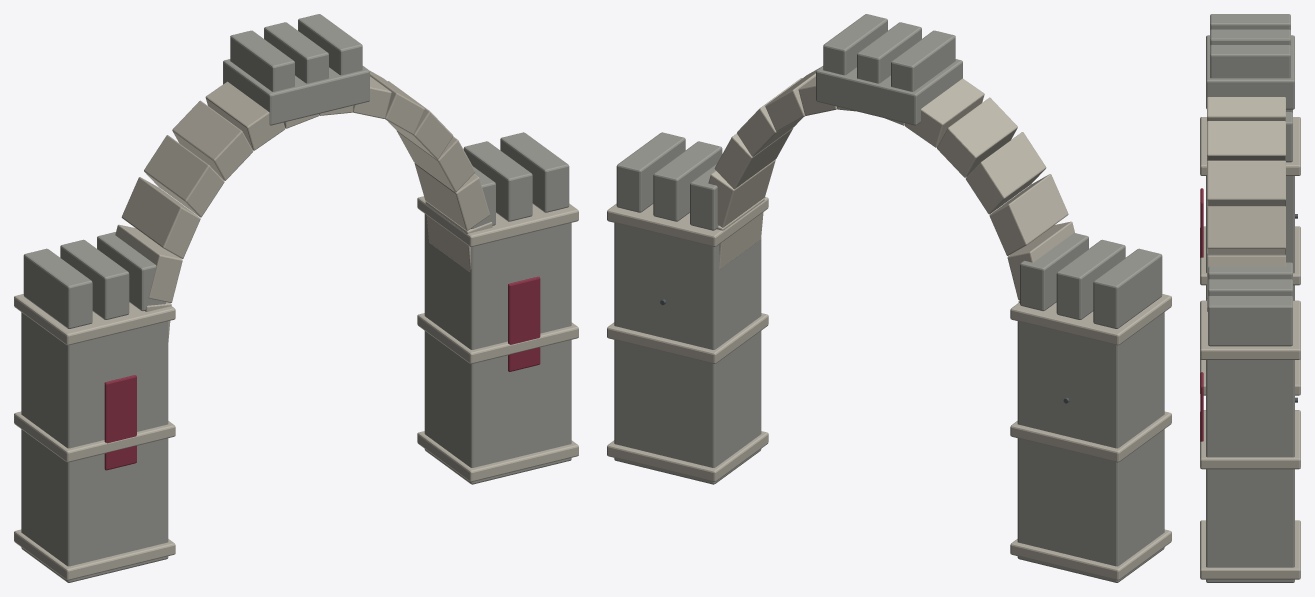
Rendered from south_gate.glb.
3 renders of one model, left to right at view 1: azimuth 30°, elevation 25°; view 2: azimuth 150°, elevation 25°; view 3: azimuth 270°, elevation 25°, orthographic. The views are drawn at different scales.
Visible parts, largest first — view 1: Body.006; view 2: Body.006; view 3: Body.006.
Part boxes in pixels (x1,y1,x2,y2): Body.006: (14, 14, 578, 582); Body.006: (607, 14, 1171, 582); Body.006: (1200, 14, 1300, 582).
Bounding box in the file's own units: 5.59 × 4.85 × 1.02.
